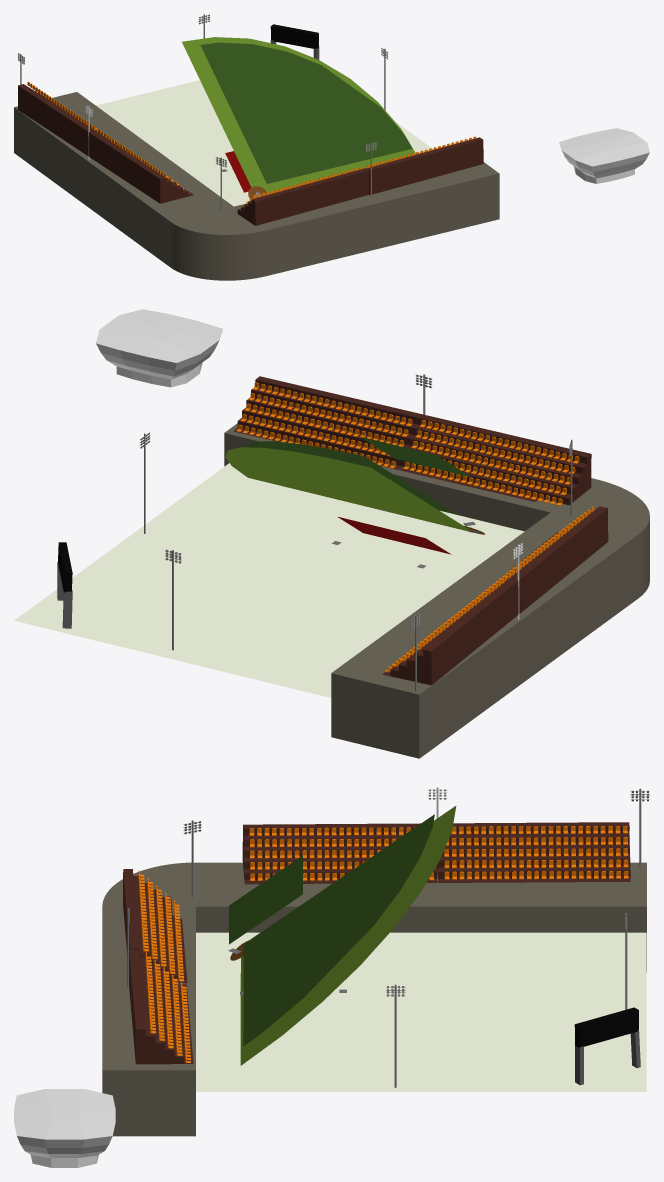
The model's file is baseball.fbx.
The picture shows the model from 3 angles, top to bottom: view 1: azimuth 30°, elevation 25°; view 2: azimuth 150°, elevation 25°; view 3: azimuth 270°, elevation 25°; orthographic projection. The views are drawn at different scales.
Visible parts, largest first — view 1: 立方體.007, 圓柱體.004, 平面.009, 圓柱體.002, 立方體, 立方體.005, 平面.008, 立方體.010, 立方體.004, 立方體.011, 立方體.001, 平面; view 2: 平面.009, 立方體.007, 圓柱體.002, 立方體, 立方體.005, 立方體.010, 立方體.011, 立方體.002, 立方體.008, 立方體.004, 圓柱體.004, 平面.008 (+4 smaller); view 3: 平面.009, 立方體.007, 圓柱體.004, 立方體.011, 立方體, 圓柱體.002, 立方體.009, 立方體.004, 立方體.010, 立方體.006, 立方體.005, 平面.008 (+3 smaller).
Part boxes in pixels (box(x1,y1,x2,y2)): 立方體.007: box(14, 92, 499, 280); 圓柱體.004: box(200, 42, 412, 183); 平面.009: box(96, 80, 433, 206); 圓柱體.002: box(182, 37, 415, 192); 立方體: box(559, 128, 649, 183); 立方體.005: box(237, 168, 369, 225); 平面.008: box(241, 97, 321, 164); 立方體.010: box(366, 137, 483, 194); 立方體.004: box(89, 131, 193, 203); 立方體.011: box(18, 84, 103, 156); 立方體.001: box(270, 24, 319, 59); 平面: box(225, 151, 251, 192); 平面.009: box(14, 463, 524, 697); 立方體.007: box(224, 423, 649, 758); 圓柱體.002: box(225, 447, 474, 532); 立方體: box(96, 309, 223, 387); 立方體.005: box(399, 415, 591, 505); 立方體.010: box(233, 376, 425, 469); 立方體.011: box(382, 578, 519, 685); 立方體.002: box(403, 420, 579, 505); 立方體.008: box(236, 382, 412, 468); 立方體.004: box(484, 506, 608, 613); 圓柱體.004: box(245, 441, 457, 514); 平面.008: box(359, 436, 471, 477); 平面.009: box(196, 932, 646, 1091); 立方體.007: box(102, 862, 646, 1136); 圓柱體.004: box(243, 814, 434, 1046); 立方體.011: box(436, 822, 630, 882); 立方體: box(14, 1089, 115, 1167); 圓柱體.002: box(240, 806, 456, 1065); 立方體.009: box(444, 826, 628, 879); 立方體.004: box(242, 823, 437, 884); 立方體.010: box(129, 949, 193, 1064); 立方體.006: box(249, 827, 434, 880); 立方體.005: box(123, 869, 187, 983); 平面.008: box(229, 855, 302, 944).
Size of what is drawn, in the model's own units: 36747 by 11110 by 32990.
